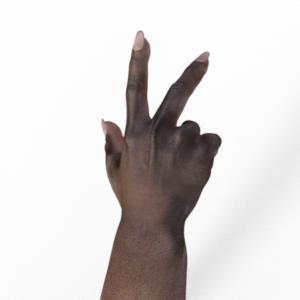scissors: (101, 31, 221, 300)
